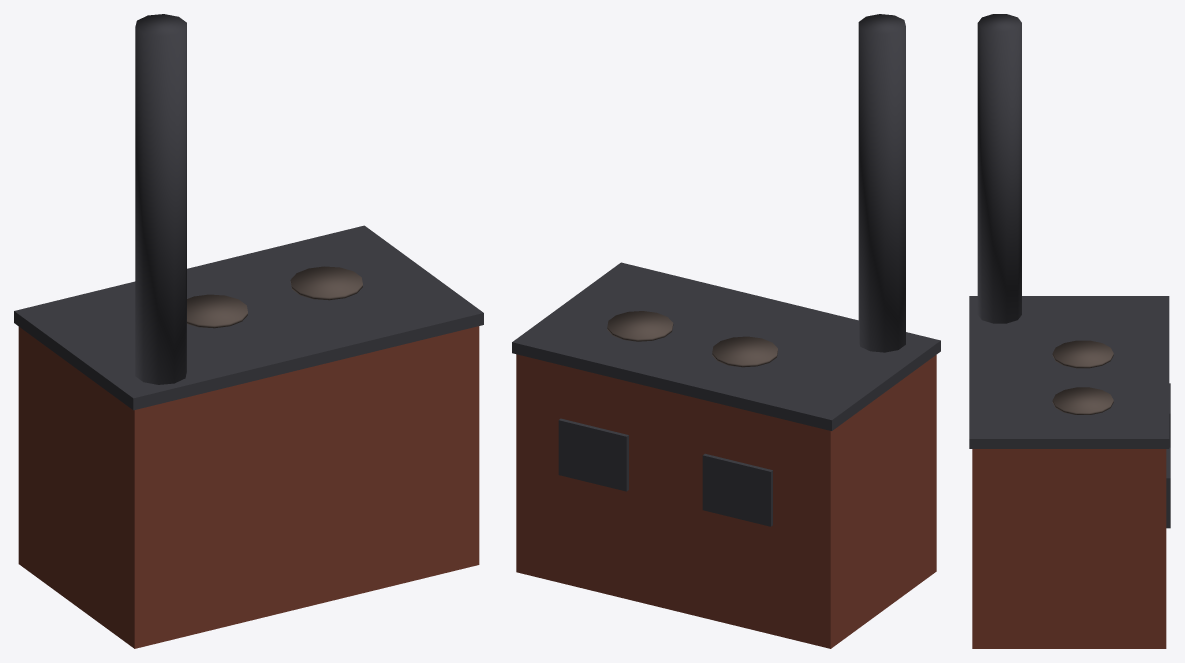
File: SM_PRP_FogaoLenha.fbx
3 views of the same model, side by side, from view 1: azimuth 30°, elevation 25°; view 2: azimuth 150°, elevation 25°; view 3: azimuth 270°, elevation 25° (orthographic). The views are drawn at different scales.
Visible parts, largest first — view 1: SM_PRP_FogaoLenha; view 2: SM_PRP_FogaoLenha; view 3: SM_PRP_FogaoLenha.
Boxes of the visible parts, bbox=[...] form: SM_PRP_FogaoLenha: bbox=[14, 14, 483, 648]; SM_PRP_FogaoLenha: bbox=[512, 14, 940, 648]; SM_PRP_FogaoLenha: bbox=[969, 14, 1170, 648].
Size of the model in its own units: 1.22 by 2 by 0.725.
